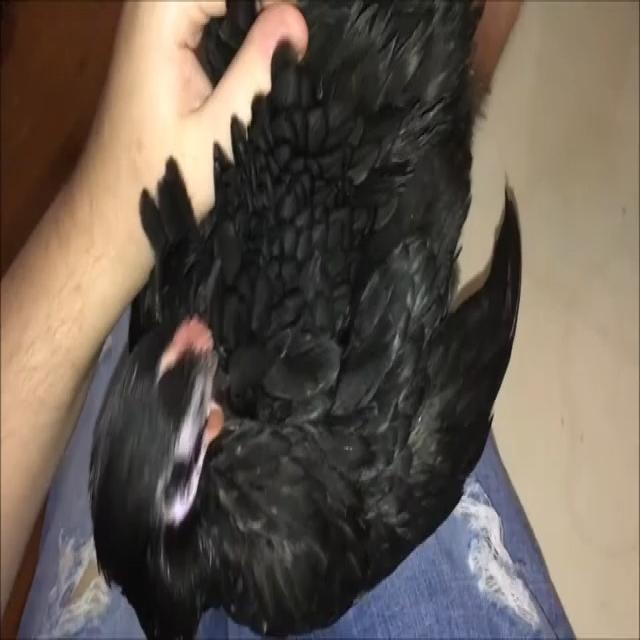self preening: (81, 0, 523, 640)
